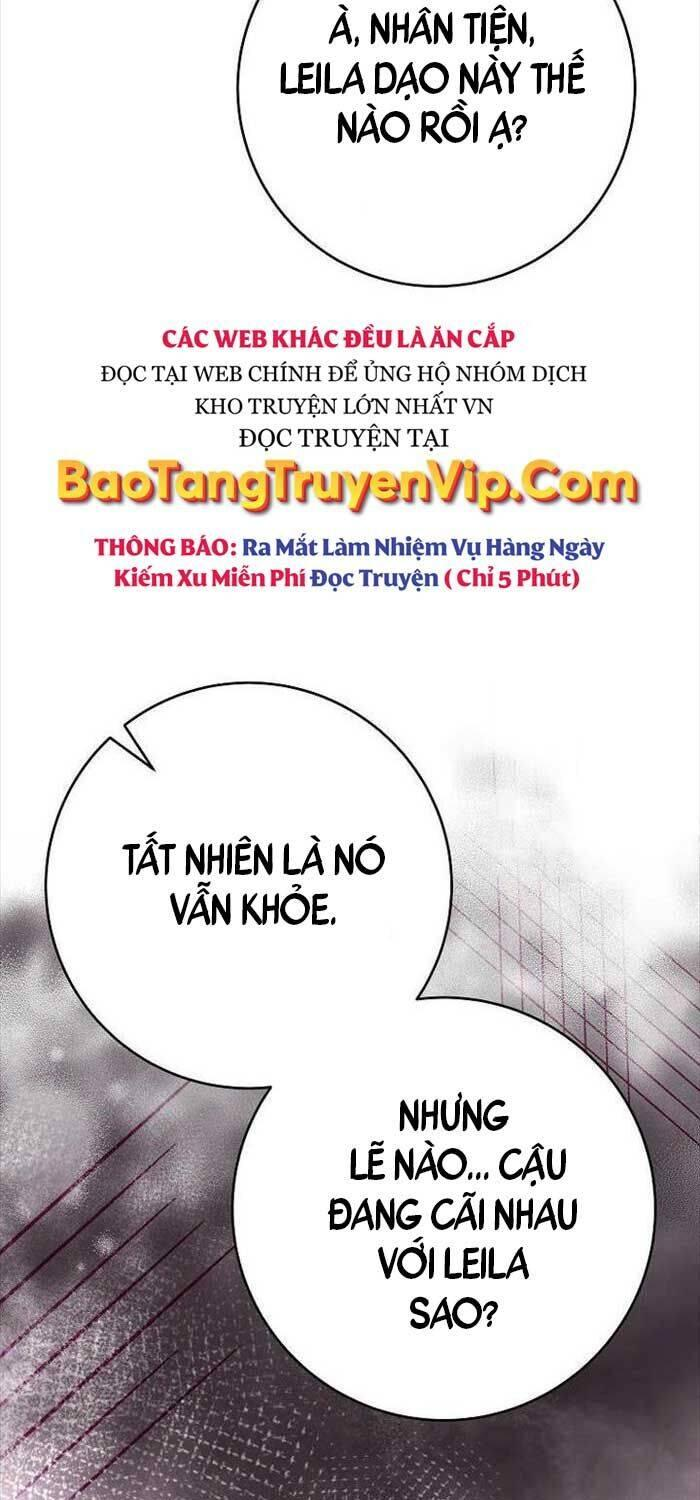quangcao: (52, 316, 646, 598)
